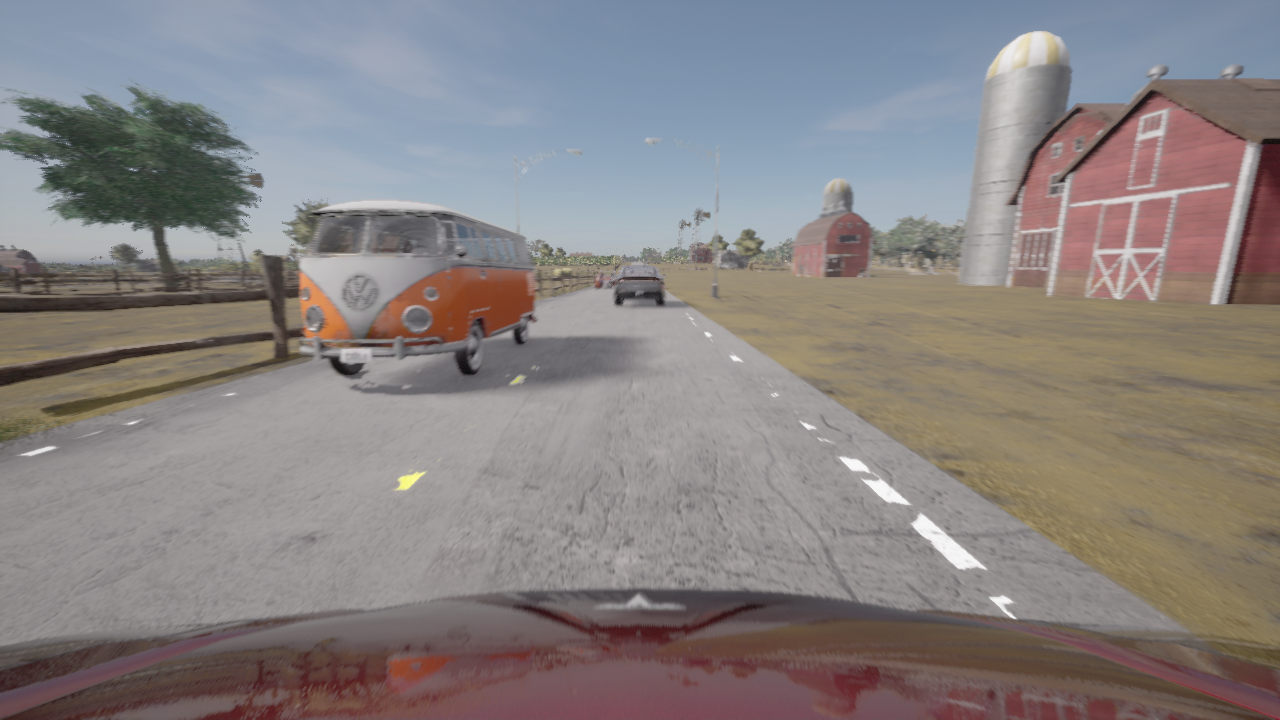cyclist: (0, 588, 1279, 719), (289, 200, 536, 375), (614, 266, 665, 305), (595, 271, 616, 287)
